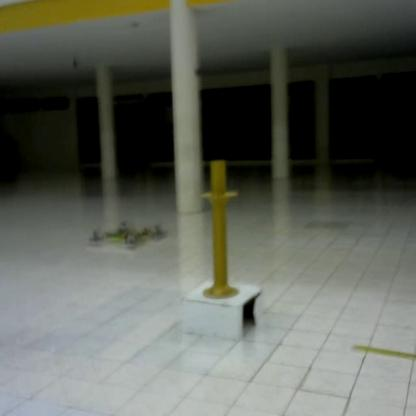pole: (196, 159, 247, 306)
